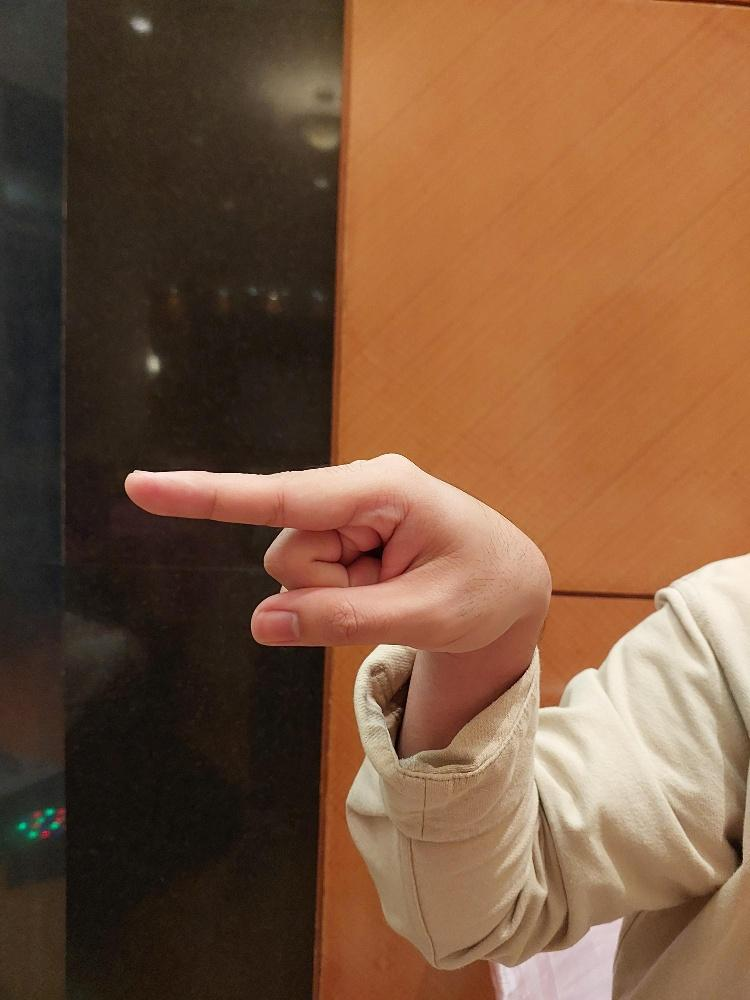z: (121, 446, 539, 656)
